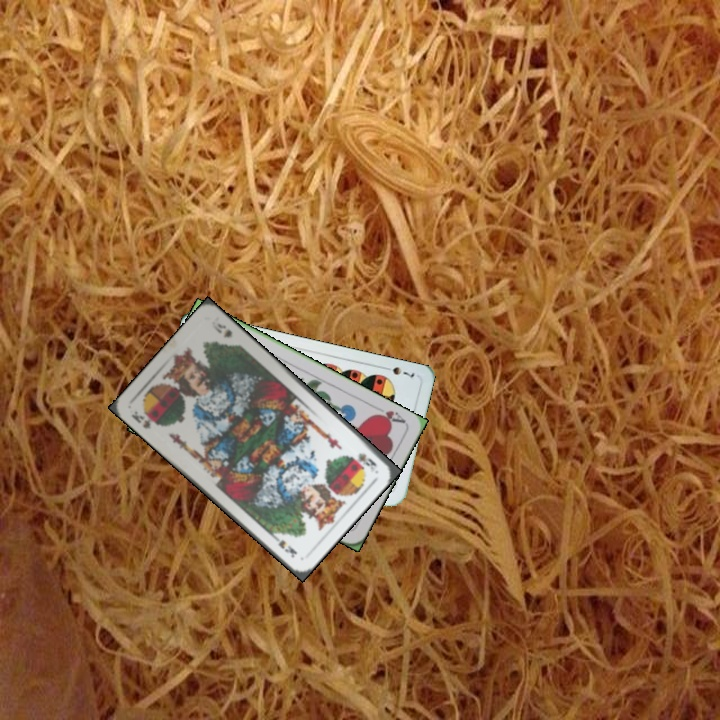HA: (368, 406, 408, 427)
S7: (379, 362, 417, 380)
SK: (127, 407, 161, 431), (354, 449, 379, 475)
